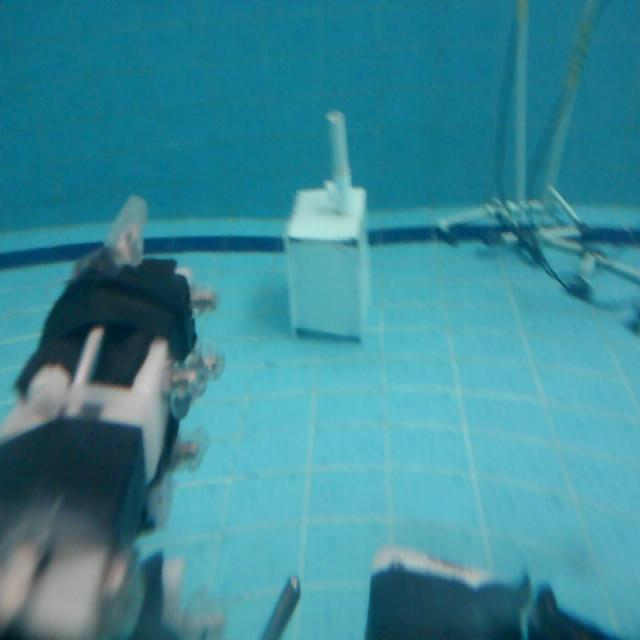Cube: (282, 180, 372, 344)
